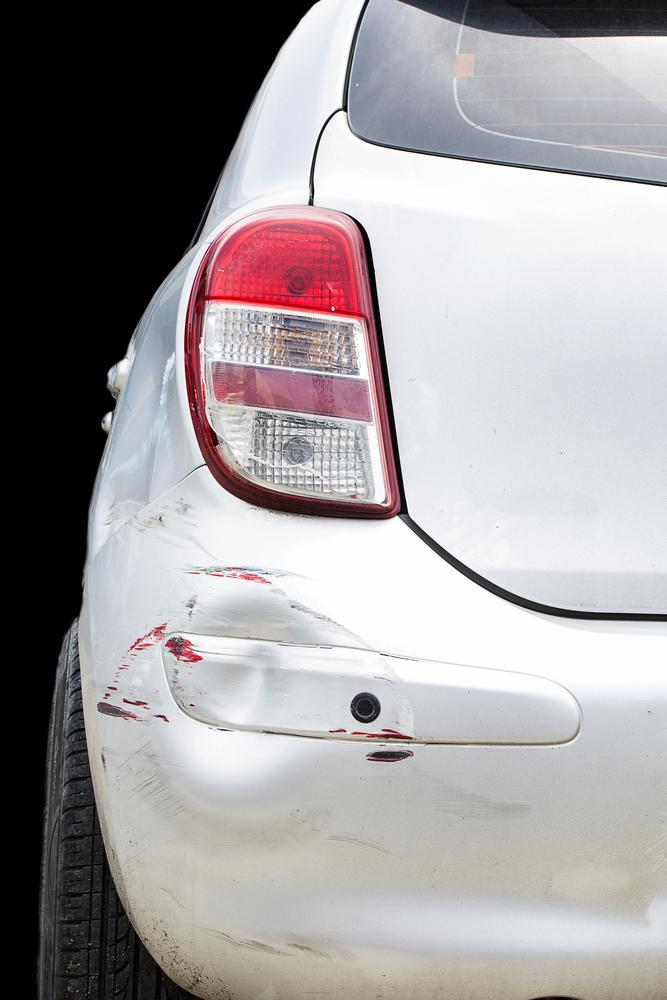dent: (175, 591, 329, 787)
lamp broken: (189, 207, 402, 522)
scratch: (96, 560, 422, 820)
